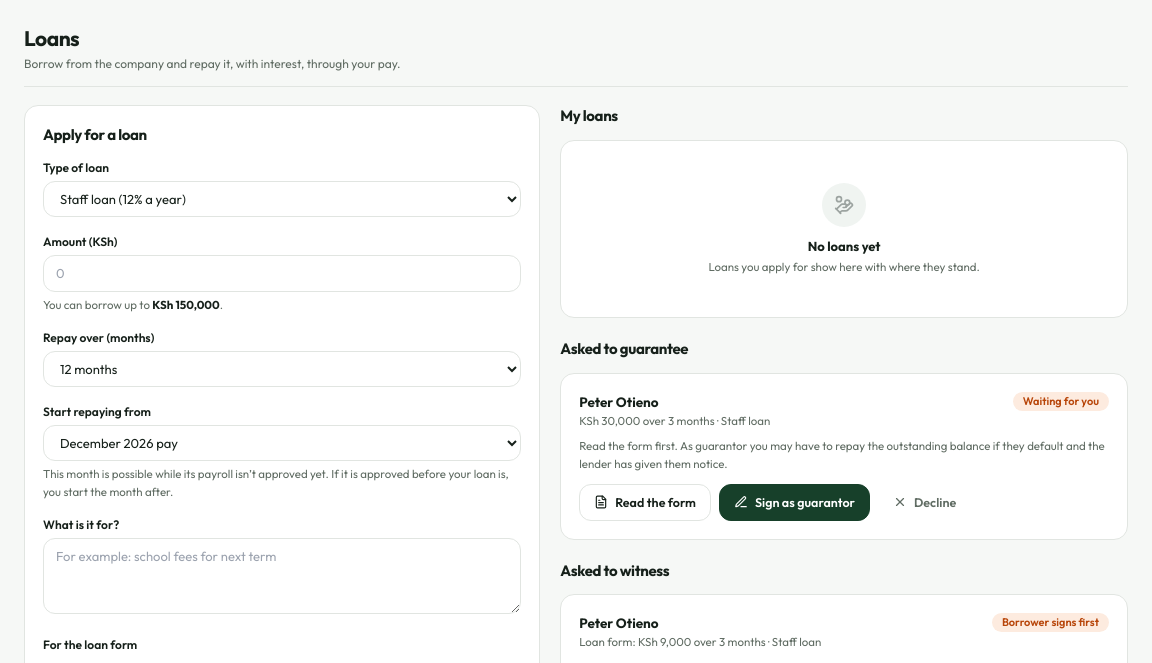
asked to guarantee › a colleague reads the form and signs as guarantor with their saved signature
Later steps or results of the test are not shown.
Expected: the text "Peter Otieno" in the row of "Waiting for you" is shown, [579,393,659,411]
What coordinates should you click on to do the following:
click the button "Sign as guarantor"
I would click on:
 (794, 502)
Its box is [719,484,870,521].
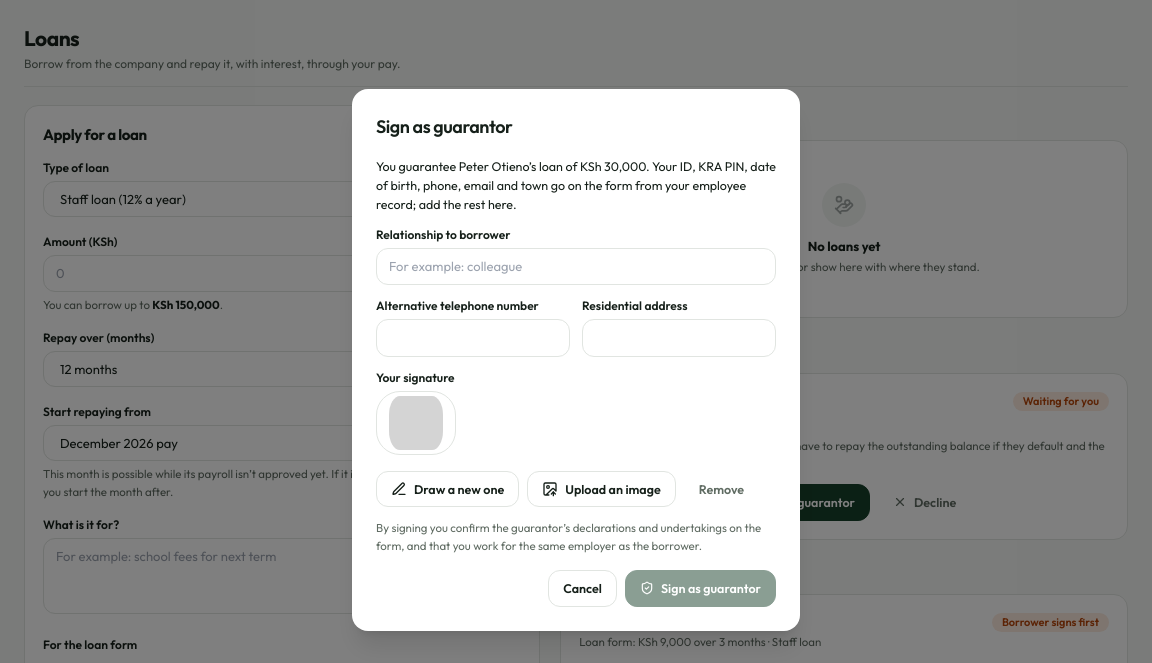
Result: the button "Sign as guarantor" is disabled at [625,570,776,607]
